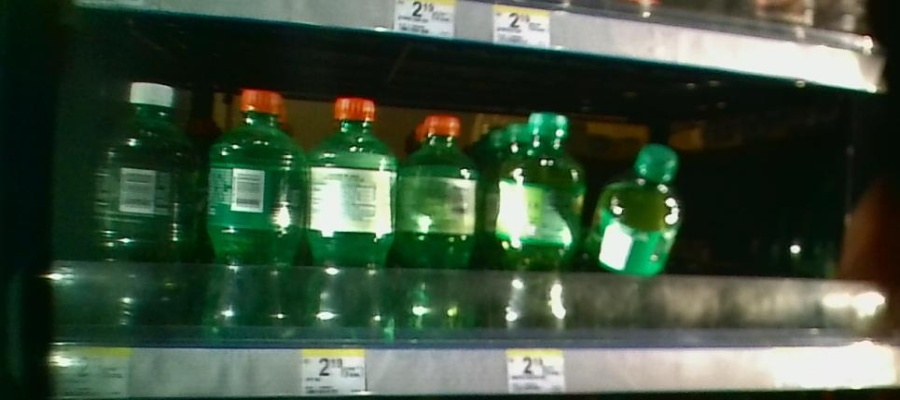bottle: (87, 70, 199, 334), (204, 72, 308, 344), (311, 94, 399, 342), (400, 99, 480, 344), (499, 114, 584, 334), (593, 140, 681, 329)
